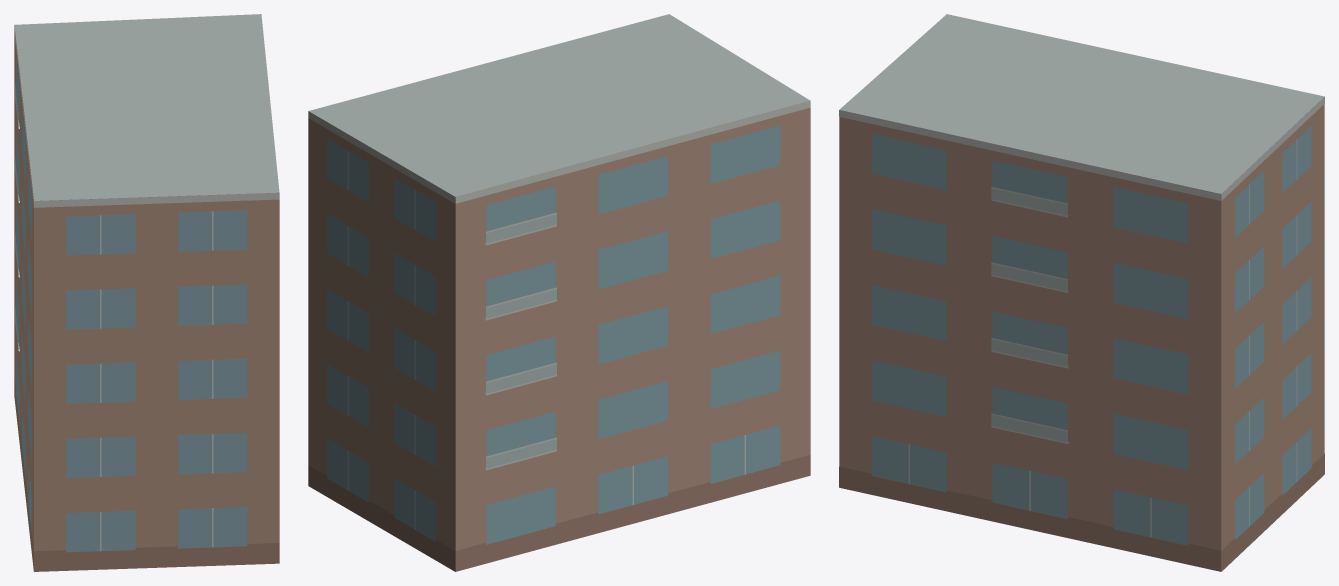
File: survey-upis-32889602.glb
3 views of the same model, side by side, from view 1: azimuth 30°, elevation 25°; view 2: azimuth 150°, elevation 25°; view 3: azimuth 270°, elevation 25° (orthographic).
Visible parts, largest first — view 1: survey-upis-32889602.tmp; view 2: survey-upis-32889602.tmp; view 3: survey-upis-32889602.tmp.
Boxes of the visible parts, left/top/right/bottom form: survey-upis-32889602.tmp: left=14, top=14, right=279, bottom=571; survey-upis-32889602.tmp: left=308, top=14, right=810, bottom=571; survey-upis-32889602.tmp: left=839, top=14, right=1324, bottom=571.
Size of the model in its own units: 13.5 by 13.2 by 15.38.
